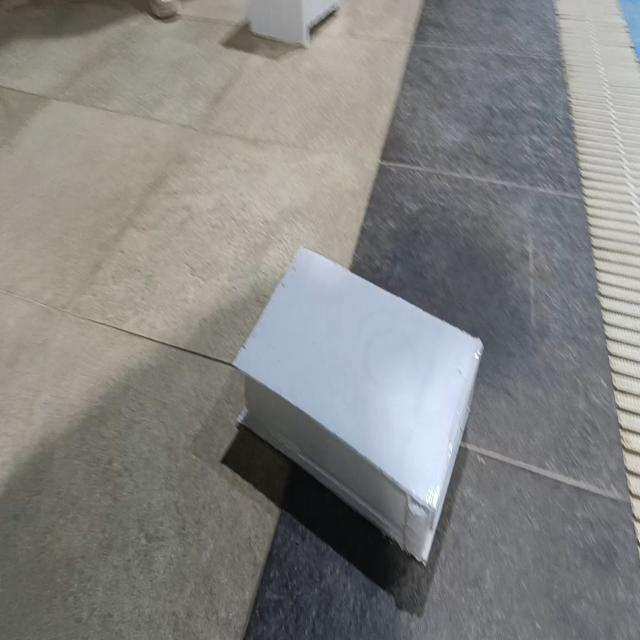Cube: (244, 0, 340, 49)
Cuboid: (232, 243, 484, 567)
